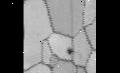good_void: (65, 47, 75, 54)
